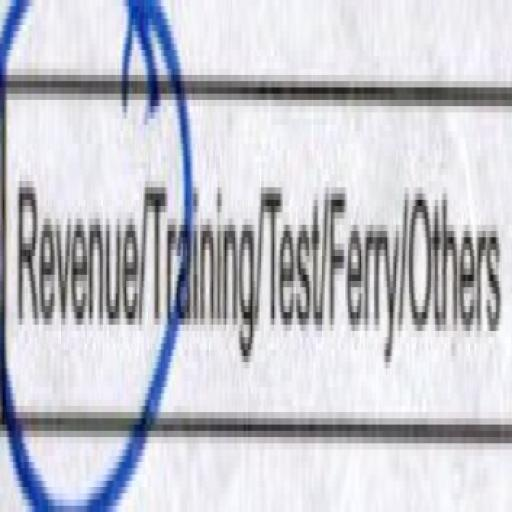check: (2, 2, 148, 512)
